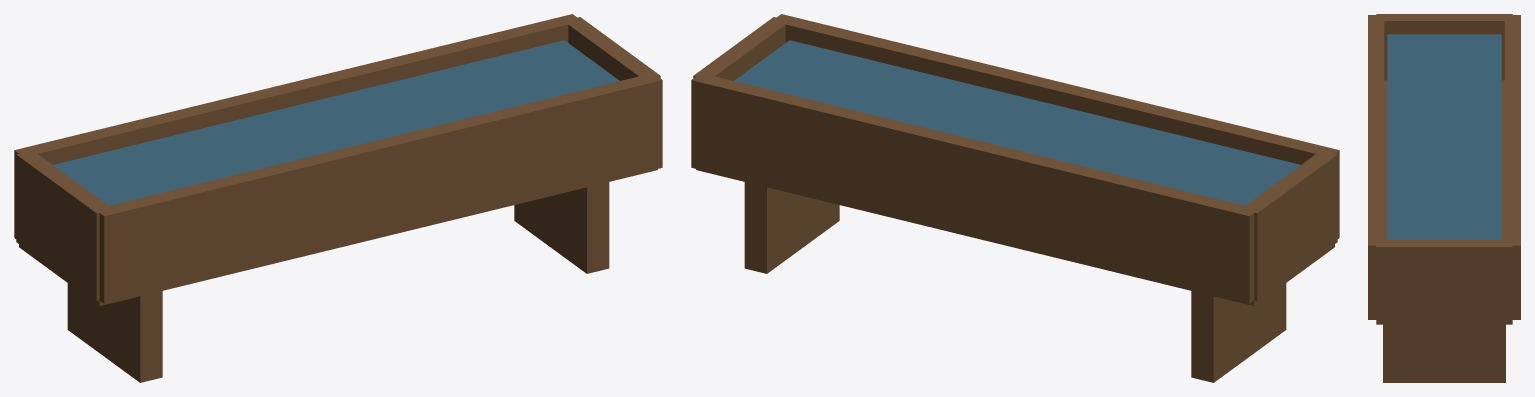
The model's file is Farm_Trough.obj.
The picture shows the model from 3 angles, left to right: view 1: azimuth 30°, elevation 25°; view 2: azimuth 150°, elevation 25°; view 3: azimuth 270°, elevation 25°; orthographic projection. The views are drawn at different scales.
Parts seen in each view (by area): view 1: Farm_Trough; view 2: Farm_Trough; view 3: Farm_Trough.
Boxes of the visible parts, x1=… form: Farm_Trough: x1=14, y1=14, x2=662, y2=382; Farm_Trough: x1=691, y1=14, x2=1339, y2=382; Farm_Trough: x1=1368, y1=14, x2=1520, y2=382.
Size of the model in its own units: 2.02 by 0.63 by 0.56.
